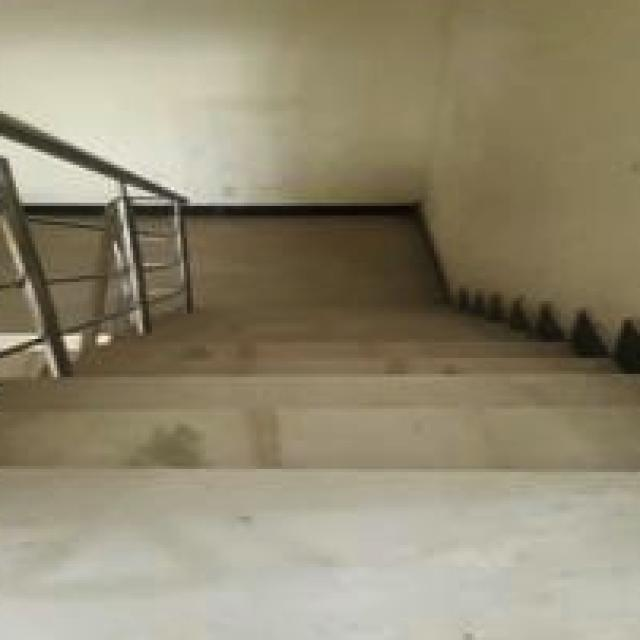downstair: (80, 309, 543, 556)
